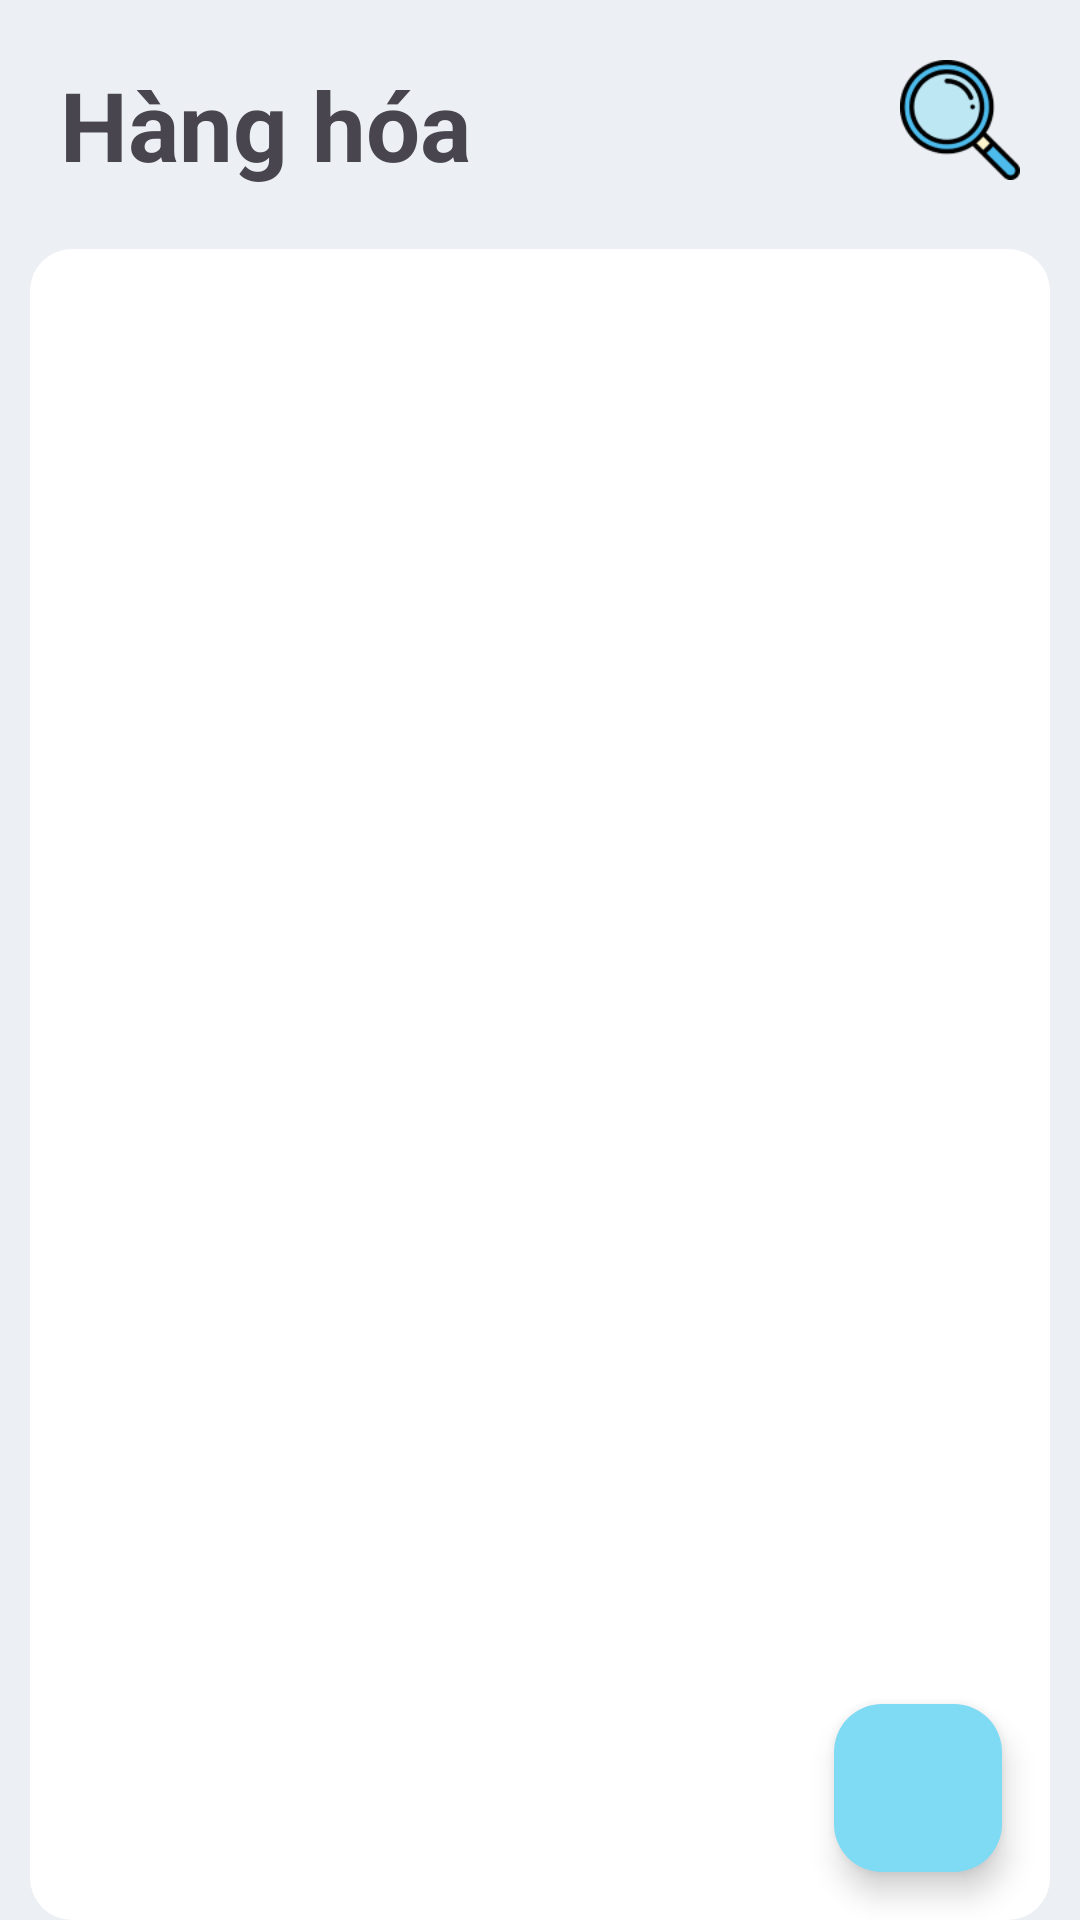

Icon bounding boxes for this 1080w x 1920h phone screenshot, format (x1, y1, x2, y2):
sreach: (900, 60, 1020, 180)
